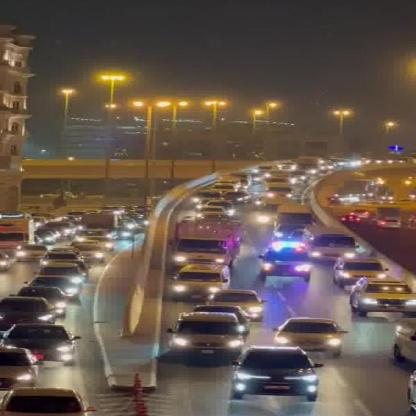car: (235, 338, 321, 404), (165, 308, 245, 366), (267, 312, 347, 356), (166, 258, 234, 300), (336, 251, 390, 283)
priority: (256, 242, 312, 280)
